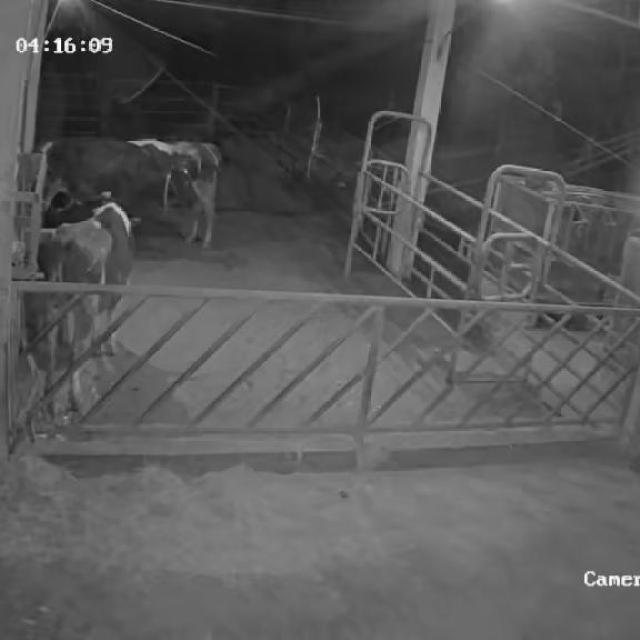standing: (27, 192, 135, 426), (33, 136, 200, 268), (130, 127, 229, 259)
